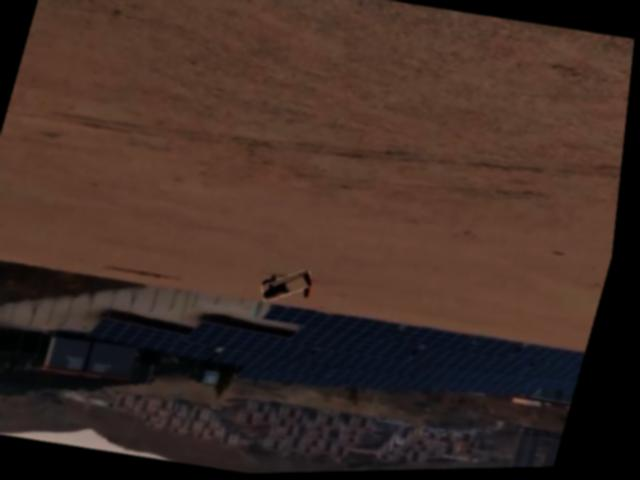insansiz-hava-araci: (265, 268, 321, 304)
